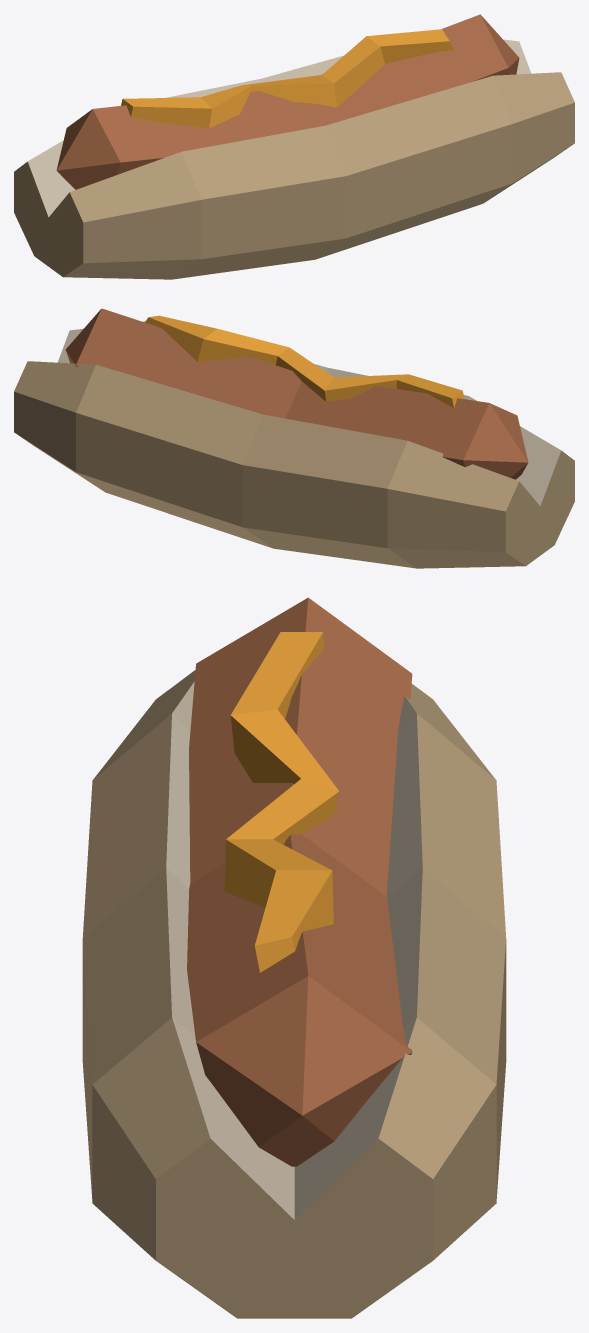
The model's file is SM_Item_Sausage_Bun_01.fbx.
3 views of the same model, one above another, from view 1: azimuth 30°, elevation 25°; view 2: azimuth 150°, elevation 25°; view 3: azimuth 270°, elevation 25° (orthographic). The views are drawn at different scales.
Parts seen in each view (by area): view 1: SM_Item_Sausage_Bun_01; view 2: SM_Item_Sausage_Bun_01; view 3: SM_Item_Sausage_Bun_01.
Part boxes in pixels (bbox=[...]): SM_Item_Sausage_Bun_01: bbox=[14, 14, 574, 279]; SM_Item_Sausage_Bun_01: bbox=[14, 308, 574, 568]; SM_Item_Sausage_Bun_01: bbox=[82, 597, 506, 1318].
Size of the model in its own units: 30.42 by 10.66 by 11.34.
